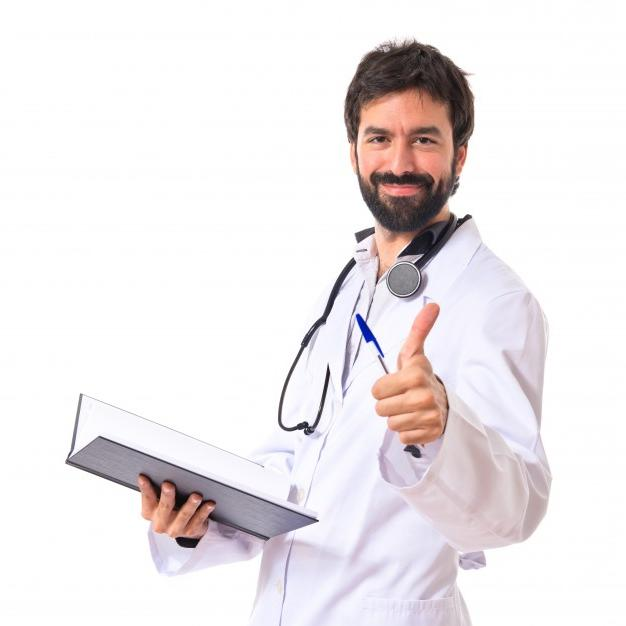thumbsup: (371, 303, 443, 444)
